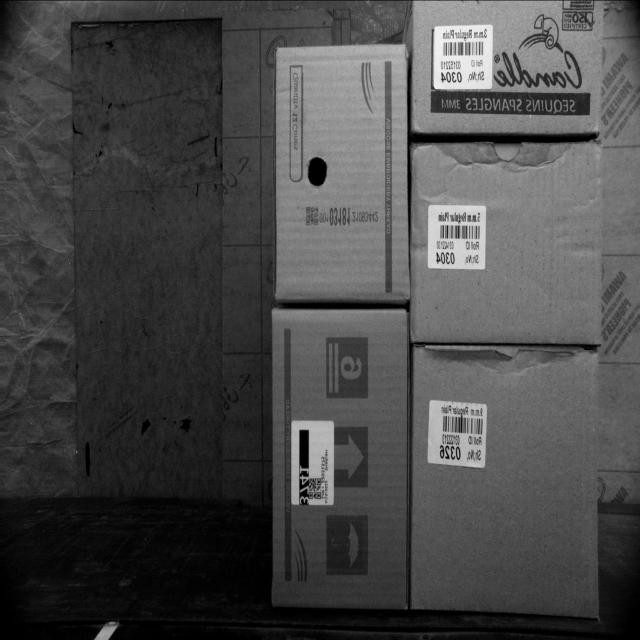cardboxes: (410, 347, 600, 618), (271, 309, 406, 614), (410, 143, 602, 344), (273, 46, 413, 305), (412, 0, 604, 134)
